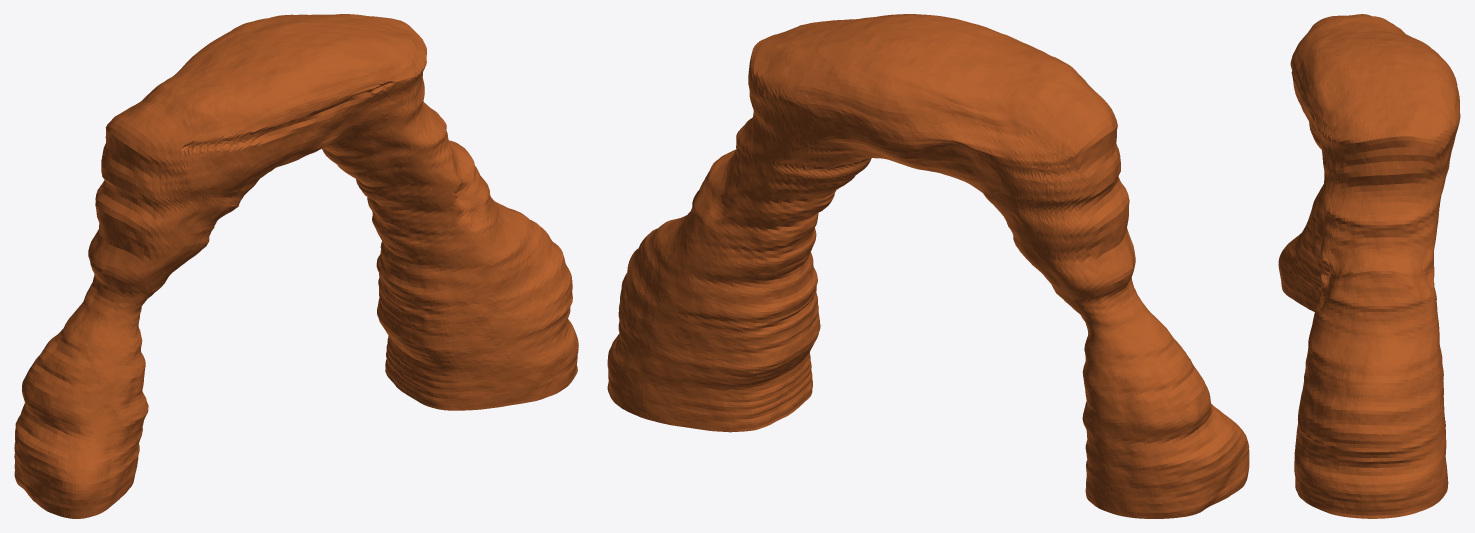
Rendered from dessert_arch.fbx.
3 renders of one model, left to right at view 1: azimuth 30°, elevation 25°; view 2: azimuth 150°, elevation 25°; view 3: azimuth 270°, elevation 25°, orthographic. The views are drawn at different scales.
Parts seen in each view (by area): view 1: Desert Arch; view 2: Desert Arch; view 3: Desert Arch.
Part boxes in pixels (<box>): Desert Arch: <box>14,14,578,518</box>; Desert Arch: <box>607,14,1249,518</box>; Desert Arch: <box>1278,14,1460,518</box>.
Bounding box in the file's own units: 4724 × 3109 × 1483.
